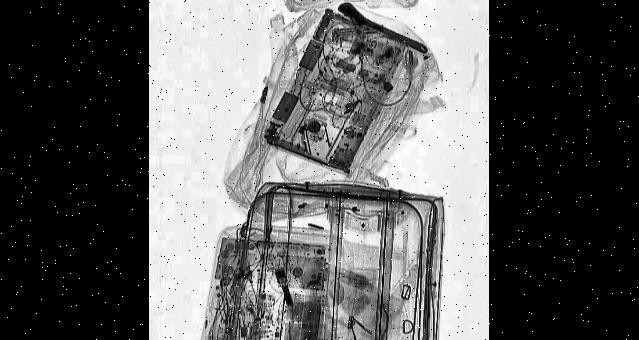Wrench: (336, 0, 428, 62)
